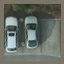car: (25, 16, 39, 49), (6, 14, 18, 52)
